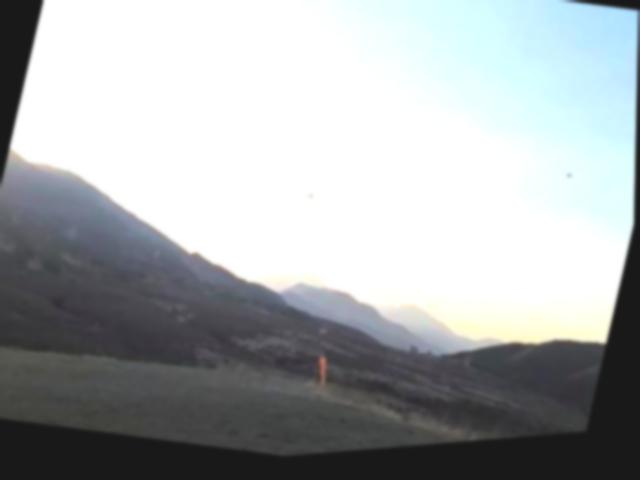iha: (296, 183, 328, 212)
